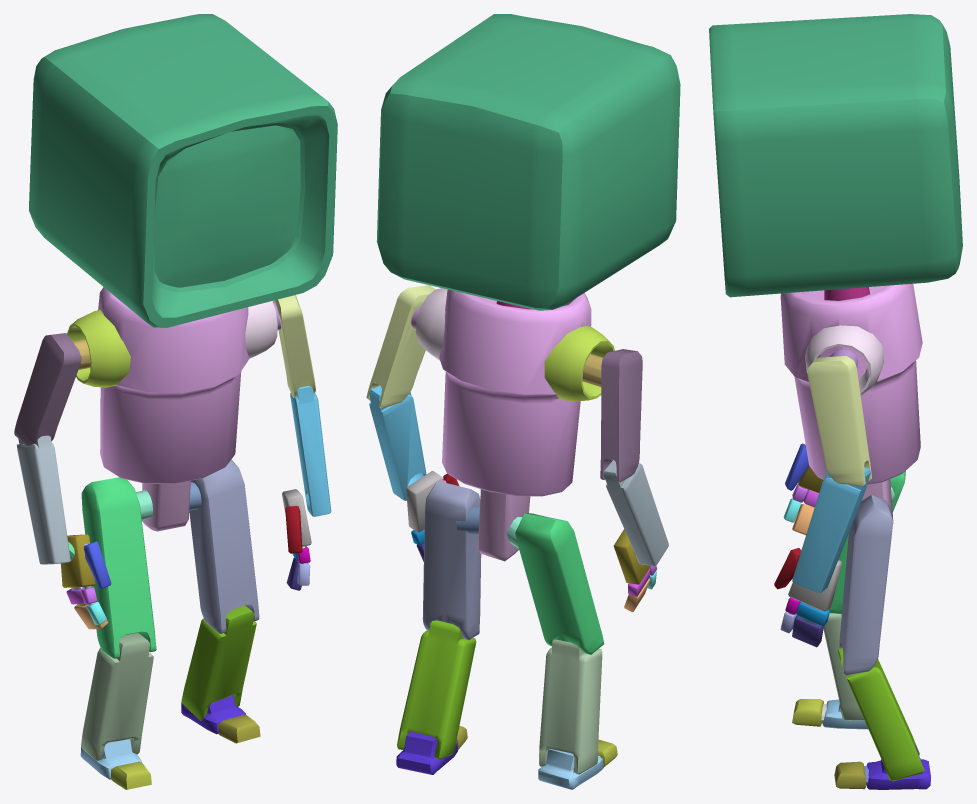
3 views of the same model, side by side, from view 1: azimuth 30°, elevation 25°; view 2: azimuth 150°, elevation 25°; view 3: azimuth 270°, elevation 25° (orthographic).
Visible parts, largest first — view 1: split_parent_45, Object_3.158, Object_3.013, Object_3.023, Object_3.019, Object_3.029, Object_2.002, Object_2.013, split_parent_18, Object_3.208, Object_2.079, Object_3.033 (+9 smaller); view 2: split_parent_45, Object_3.158, Object_3.013, Object_3.023, Object_3.029, Object_3.019, Object_2.002, Object_2.079, split_parent_18, Object_2.013, Object_3.208, Object_3.033 (+5 smaller); view 3: split_parent_45, Object_3.158, Object_3.023, Object_2.079, split_parent_18, Object_3.029, Object_3.228, Object_3.019, split_parent_43, Object_2.096, Object_3.013, Object_3.117 (+8 smaller).
Part boxes in pixels (x1,y1,x2,y2): split_parent_45: [29, 14, 337, 327]; Object_3.158: [98, 287, 249, 483]; Object_3.013: [81, 477, 156, 658]; Object_3.023: [189, 459, 259, 633]; Object_3.019: [81, 633, 153, 761]; Object_3.029: [181, 605, 256, 720]; Object_2.002: [14, 333, 81, 445]; Object_2.013: [17, 435, 70, 564]; split_parent_18: [290, 385, 331, 516]; Object_3.208: [67, 310, 130, 387]; Object_2.079: [273, 295, 315, 397]; Object_3.033: [141, 481, 190, 531]; split_parent_45: [376, 14, 680, 310]; Object_3.158: [439, 289, 591, 496]; Object_3.013: [515, 513, 603, 654]; Object_3.023: [422, 480, 481, 640]; Object_3.029: [397, 620, 476, 759]; Object_3.019: [539, 639, 602, 774]; Object_2.002: [600, 349, 642, 482]; Object_2.079: [366, 285, 435, 408]; split_parent_18: [369, 385, 426, 500]; Object_2.013: [603, 460, 668, 566]; Object_3.208: [544, 325, 614, 401]; Object_3.033: [477, 489, 530, 561]; split_parent_45: [709, 14, 962, 297]; Object_3.158: [780, 283, 922, 484]; Object_3.023: [839, 495, 893, 675]; Object_2.079: [807, 356, 871, 486]; split_parent_18: [792, 467, 870, 593]; Object_3.029: [837, 648, 924, 781]; Object_3.228: [805, 325, 883, 395]; Object_3.019: [823, 613, 864, 720]; split_parent_43: [866, 744, 930, 789]; Object_2.096: [788, 560, 841, 611]; Object_3.013: [828, 471, 905, 614]; Object_3.117: [834, 761, 865, 789].
Size of the model in its own units: 0.4211 by 1 by 0.3286.
